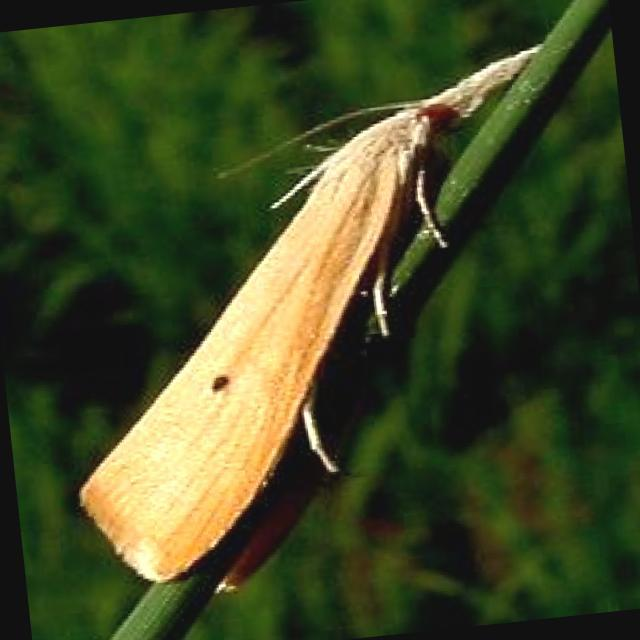stem borer: (79, 44, 541, 583)
